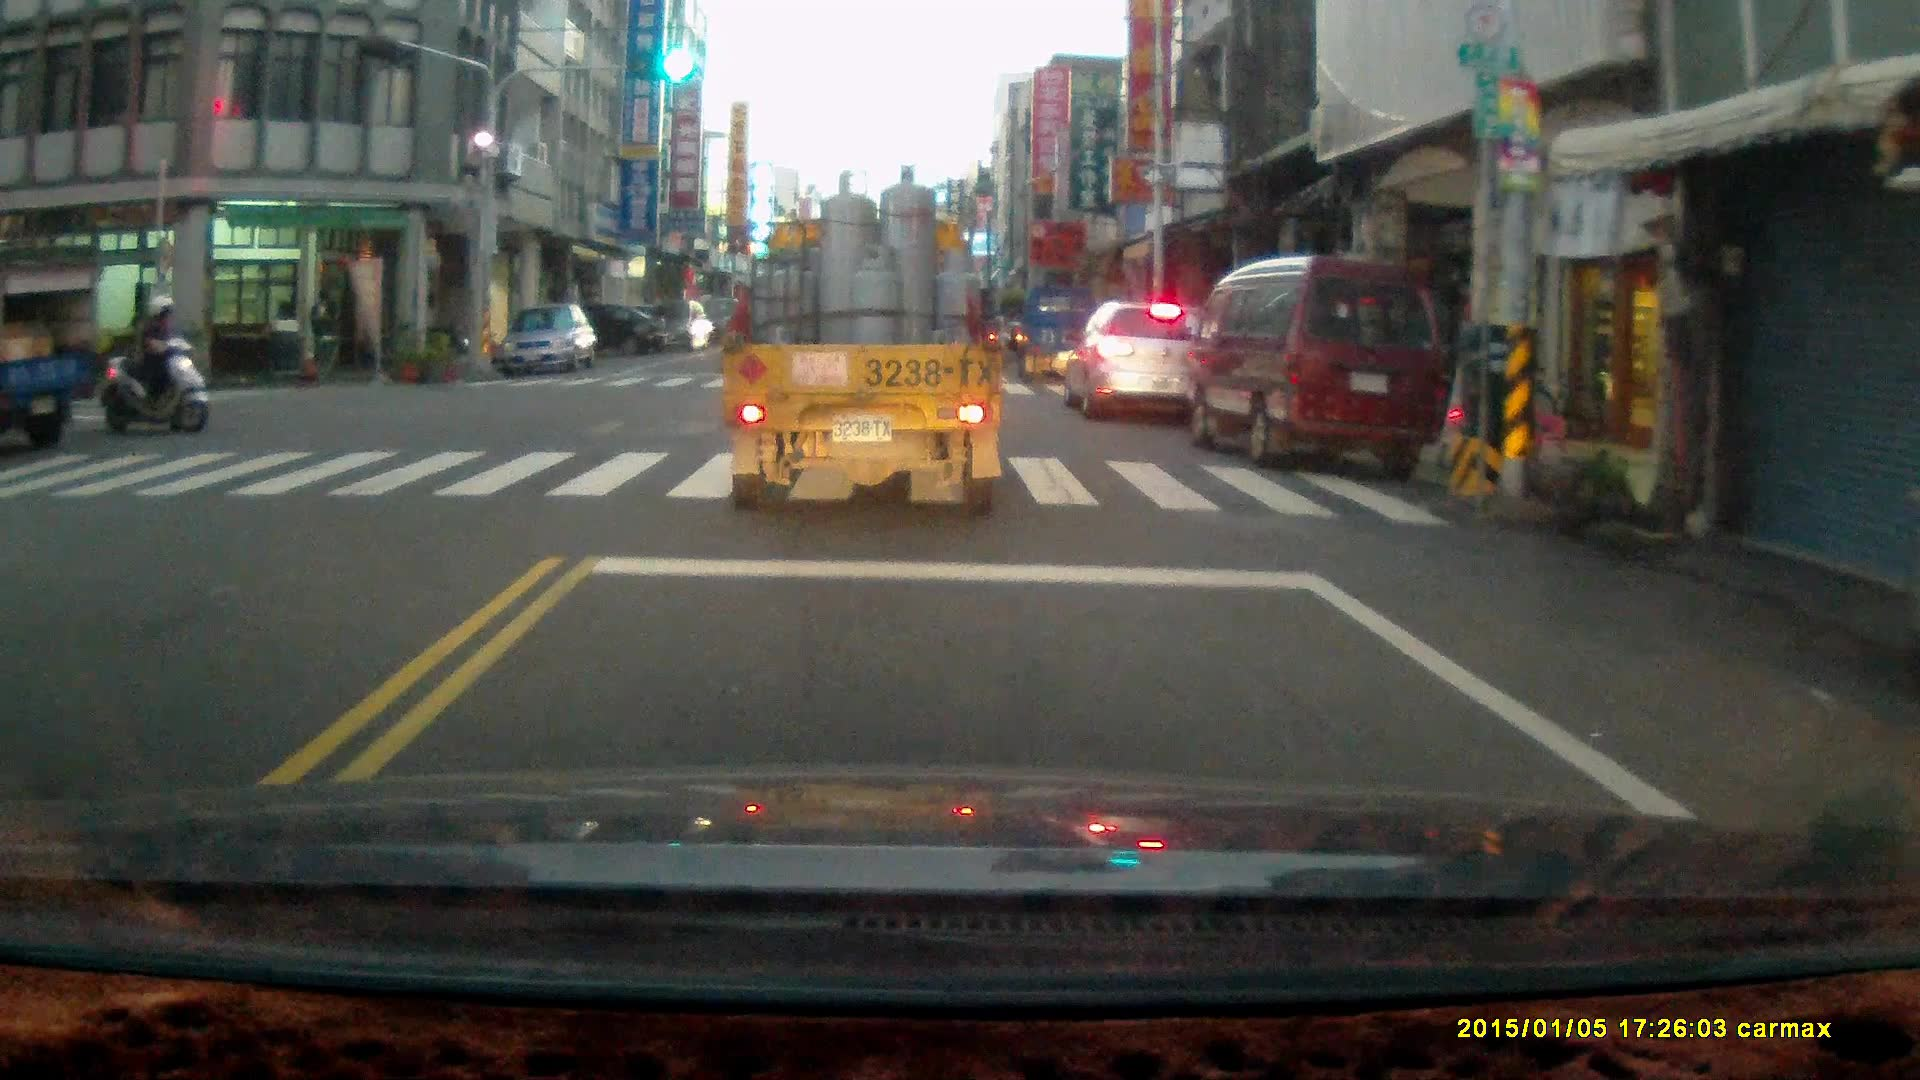pedestrian: (305, 284, 339, 385)
rider: (95, 291, 208, 431)
vehicle: (723, 162, 1010, 512), (1195, 249, 1459, 472), (1068, 289, 1229, 426), (1, 247, 99, 445), (1017, 284, 1102, 386), (496, 302, 598, 383), (535, 298, 668, 359), (623, 298, 710, 351)
